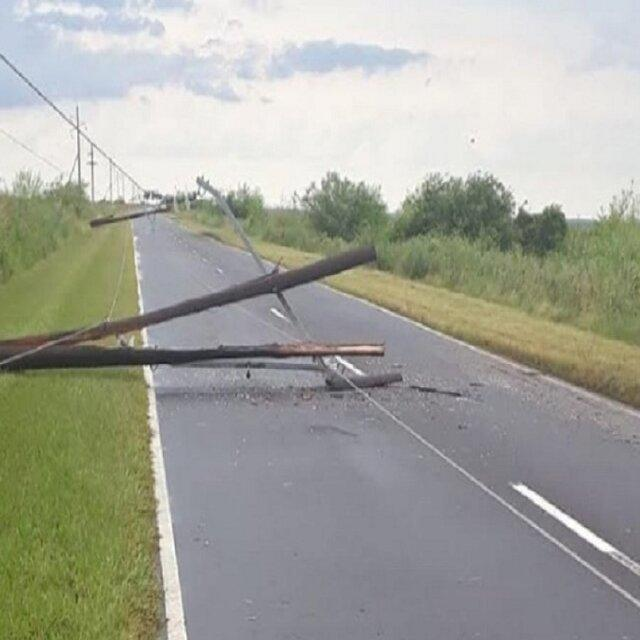Inclined Pole: (0, 234, 424, 429)
